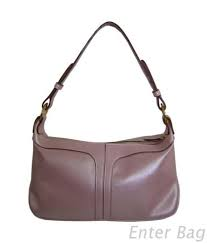cartera: (20, 16, 198, 221)
cuero: (70, 160, 153, 195)
